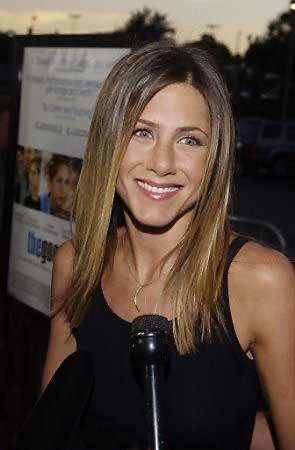Face: (118, 99, 211, 229), (48, 165, 73, 212)
